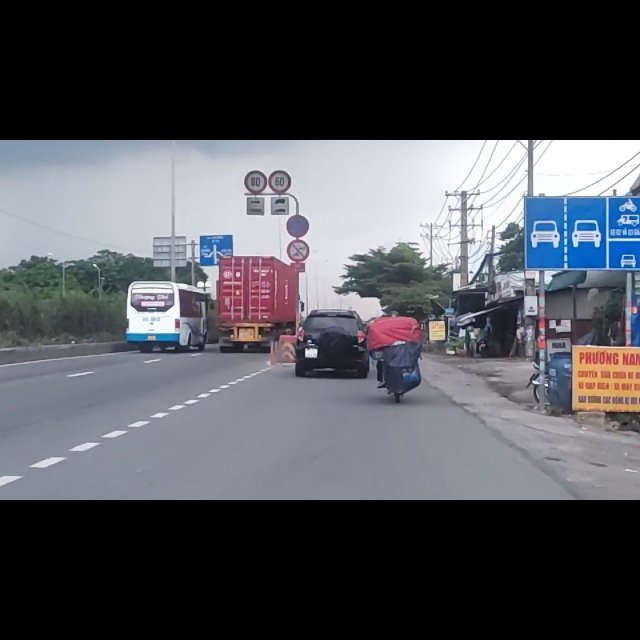bien_cam: (524, 98, 640, 230), (286, 174, 310, 217), (243, 53, 267, 96), (285, 132, 310, 173), (269, 55, 291, 95)
